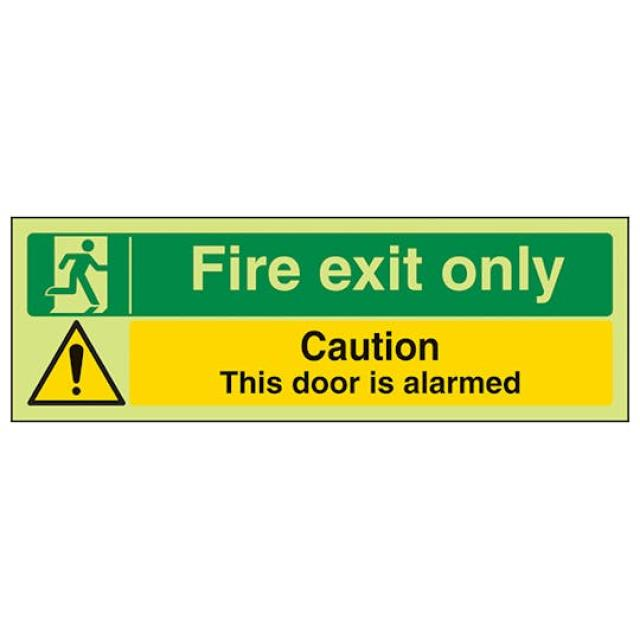exit_sign: (0, 209, 638, 444)
